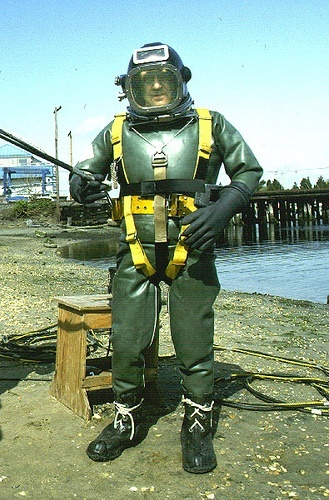head: (120, 35, 194, 118)
person: (68, 33, 267, 466)
